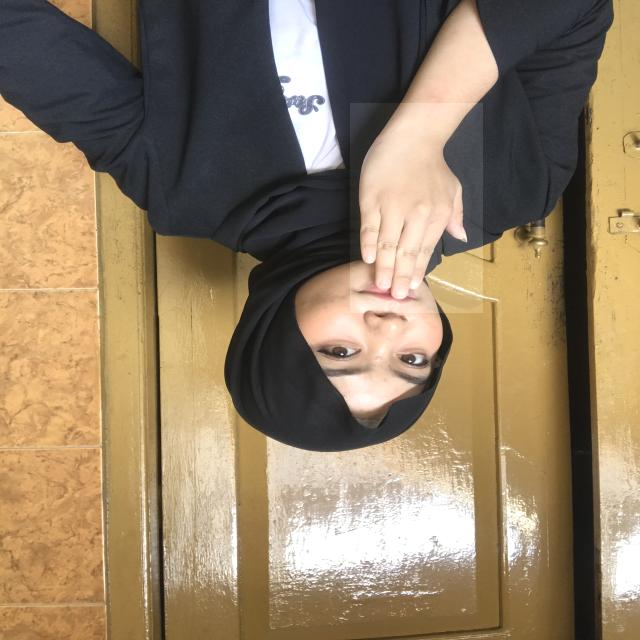ganteng: (350, 103, 483, 313)
